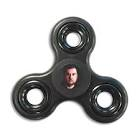fidget_spinner: (2, 1, 132, 128)
